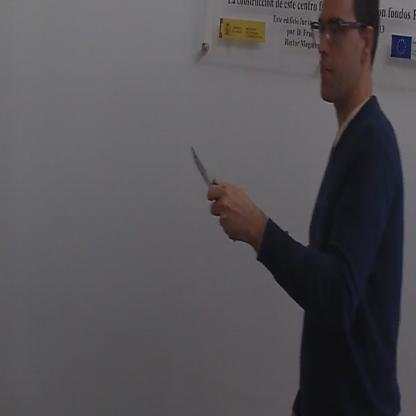knife: (188, 137, 232, 229)
